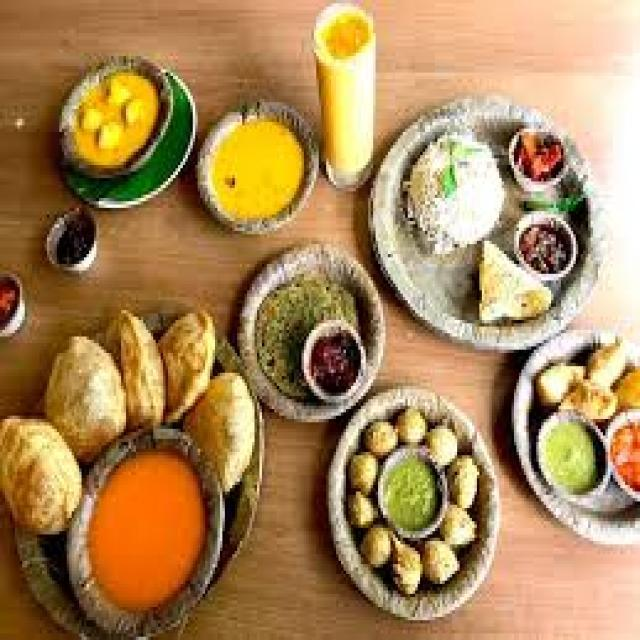dal: (204, 108, 312, 230)
papad: (457, 227, 553, 338)
pickle: (0, 264, 30, 336)
rice: (403, 128, 507, 252)
sweet: (508, 204, 583, 270)
